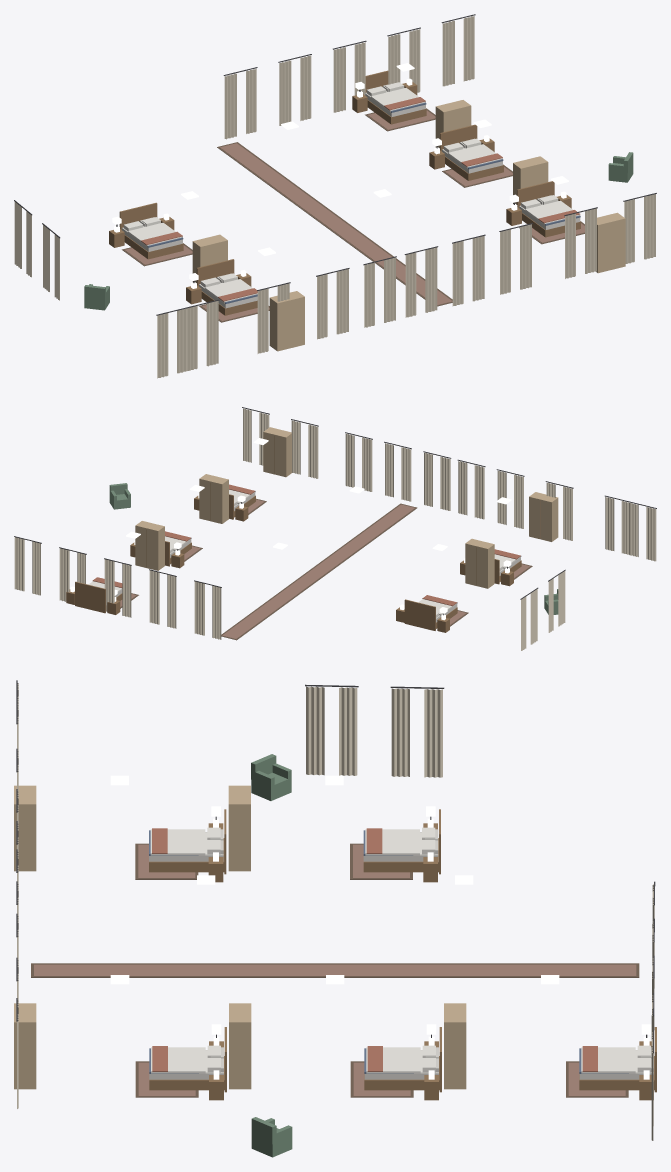
Rendered from fine-s5.glb.
3 views of the same model, one above another, from view 1: azimuth 30°, elevation 25°; view 2: azimuth 150°, elevation 25°; view 3: azimuth 270°, elevation 25° (orthographic). The views are drawn at different scales.
Visible parts, largest first — view 1: soft-s5, dresser.021, dresser.024, bed-frame.020, bed-frame.023, bed-frame.021, bed-frame.024, bed-frame.022, dresser.022, dresser.020, dresser.023, lounge-chair.009 (+1 smaller); view 2: soft-s5, dresser.020, dresser.021, dresser.023, dresser.022, dresser.024, bed-frame.020, bed-frame.022, lounge-chair.009; view 3: soft-s5, dresser.022, dresser.023, dresser.020, dresser.024, dresser.021, bed-frame.021, bed-frame.023, lounge-chair.008, bed-frame.020, bed-frame.022, bed-frame.024 (+1 smaller).
Boxes of the visible parts, x1,y1,x2,y2 form: soft-s5: (14, 14, 656, 378); dresser.021: (269, 291, 304, 351); dresser.024: (595, 212, 625, 273); bed-frame.020: (119, 202, 183, 259); bed-frame.023: (440, 124, 503, 180); bed-frame.021: (196, 259, 257, 315); bed-frame.024: (517, 181, 580, 237); bed-frame.022: (365, 70, 426, 124); dresser.022: (435, 100, 471, 148); dresser.020: (192, 234, 227, 282); dresser.023: (513, 156, 548, 204); lounge-chair.009: (608, 152, 633, 182); soft-s5: (14, 407, 656, 650); dresser.020: (465, 538, 494, 588); dresser.021: (529, 492, 558, 541); dresser.023: (199, 474, 228, 523); dresser.022: (135, 521, 164, 570); dresser.024: (263, 427, 291, 477); bed-frame.020: (404, 599, 457, 630); bed-frame.022: (75, 581, 122, 613); lounge-chair.009: (109, 483, 130, 509); soft-s5: (16, 680, 655, 1140); dresser.022: (444, 1003, 466, 1089); dresser.023: (229, 1003, 251, 1089); dresser.020: (228, 785, 250, 871); dresser.024: (14, 1003, 36, 1089); dresser.021: (14, 785, 36, 871); bed-frame.021: (149, 809, 226, 874); bed-frame.023: (364, 1027, 441, 1092); lounge-chair.008: (251, 754, 291, 800); bed-frame.020: (363, 809, 440, 874); bed-frame.022: (579, 1027, 656, 1092); bed-frame.024: (149, 1027, 226, 1092).
Size of the model in its own units: 24.75 by 2.74 by 17.4.
